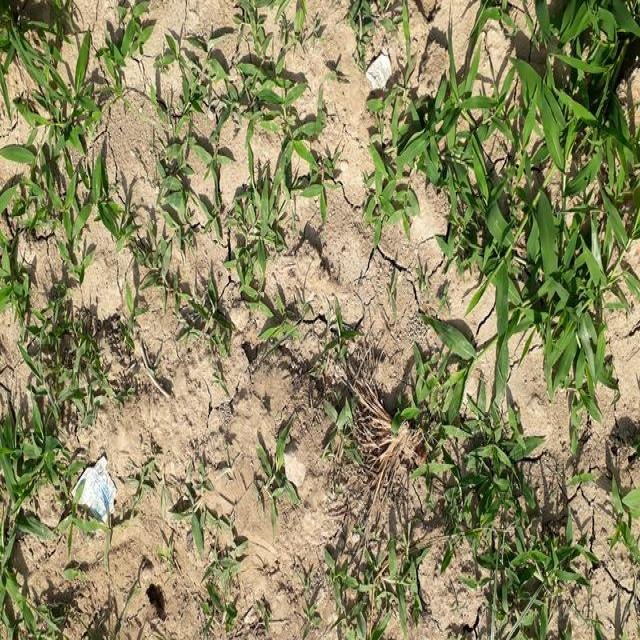weed: (349, 0, 640, 392), (409, 413, 582, 640), (3, 291, 113, 640), (2, 0, 106, 244), (238, 39, 328, 304)
